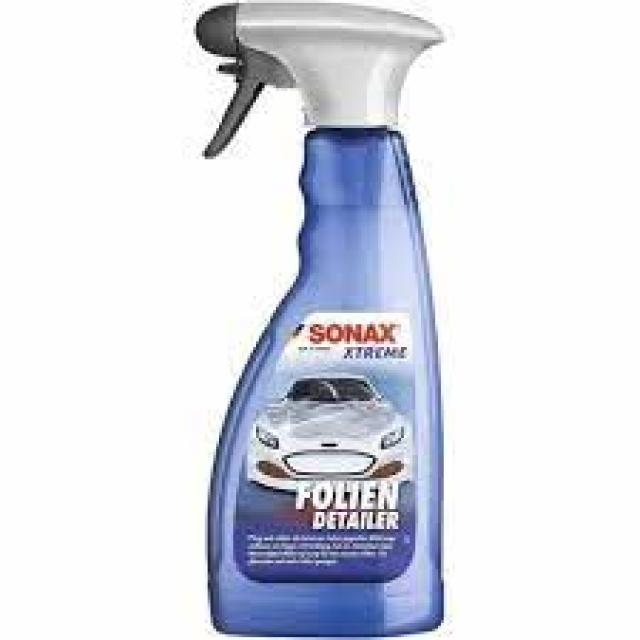winwinshield_washer: (185, 0, 452, 640)
